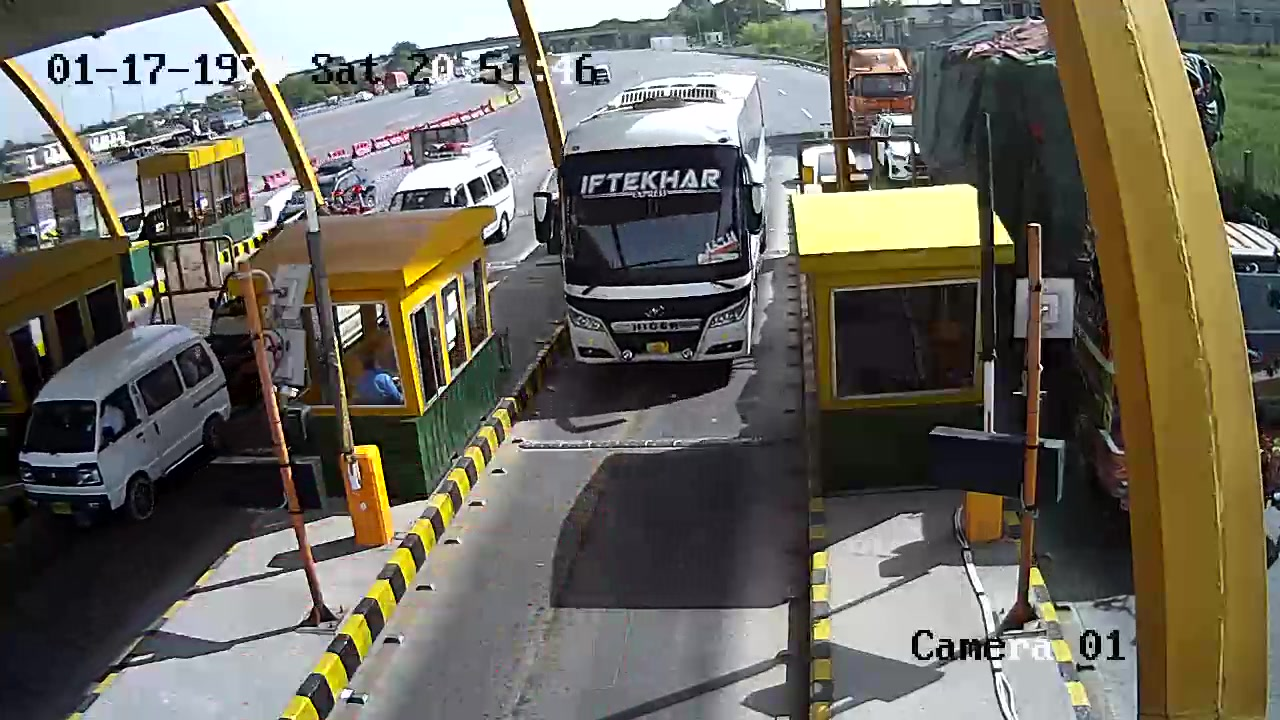F4: (544, 66, 774, 382)
